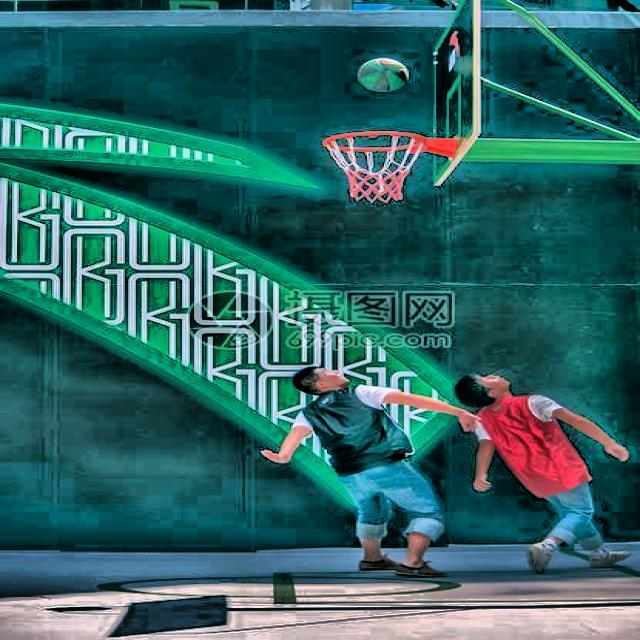rim: (321, 132, 425, 200)
